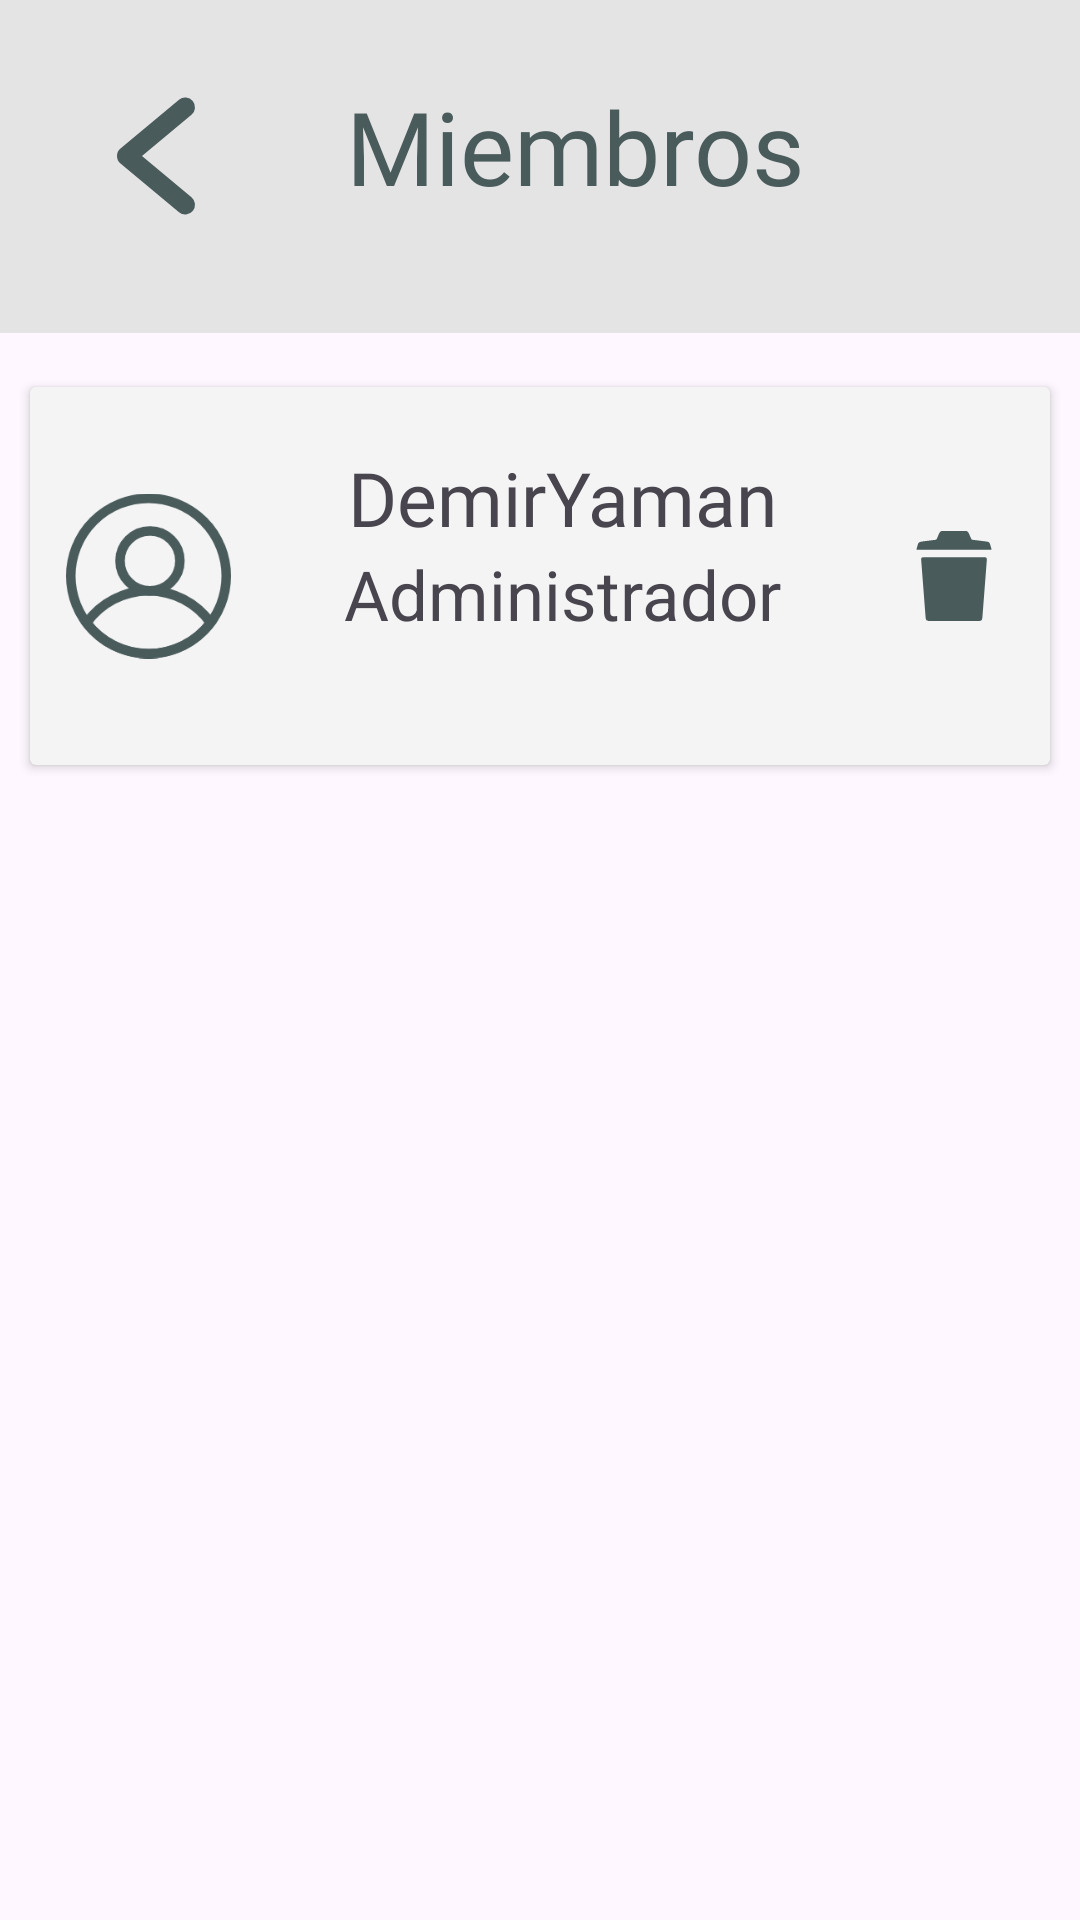

Screen size 1080*1920. Icon name, then its box in pixels as bbox=(x1, y1, x2, y2):
Flecha hacia atras: bbox=(117, 97, 195, 215)
profile: bbox=(66, 494, 231, 659)
trash: bbox=(916, 531, 992, 621)
